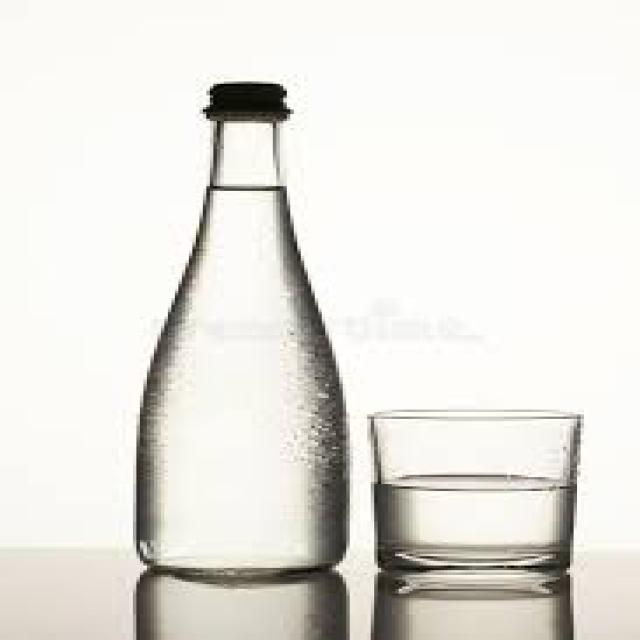glass: (140, 114, 346, 580), (367, 408, 574, 573)
metal: (200, 77, 291, 116)
